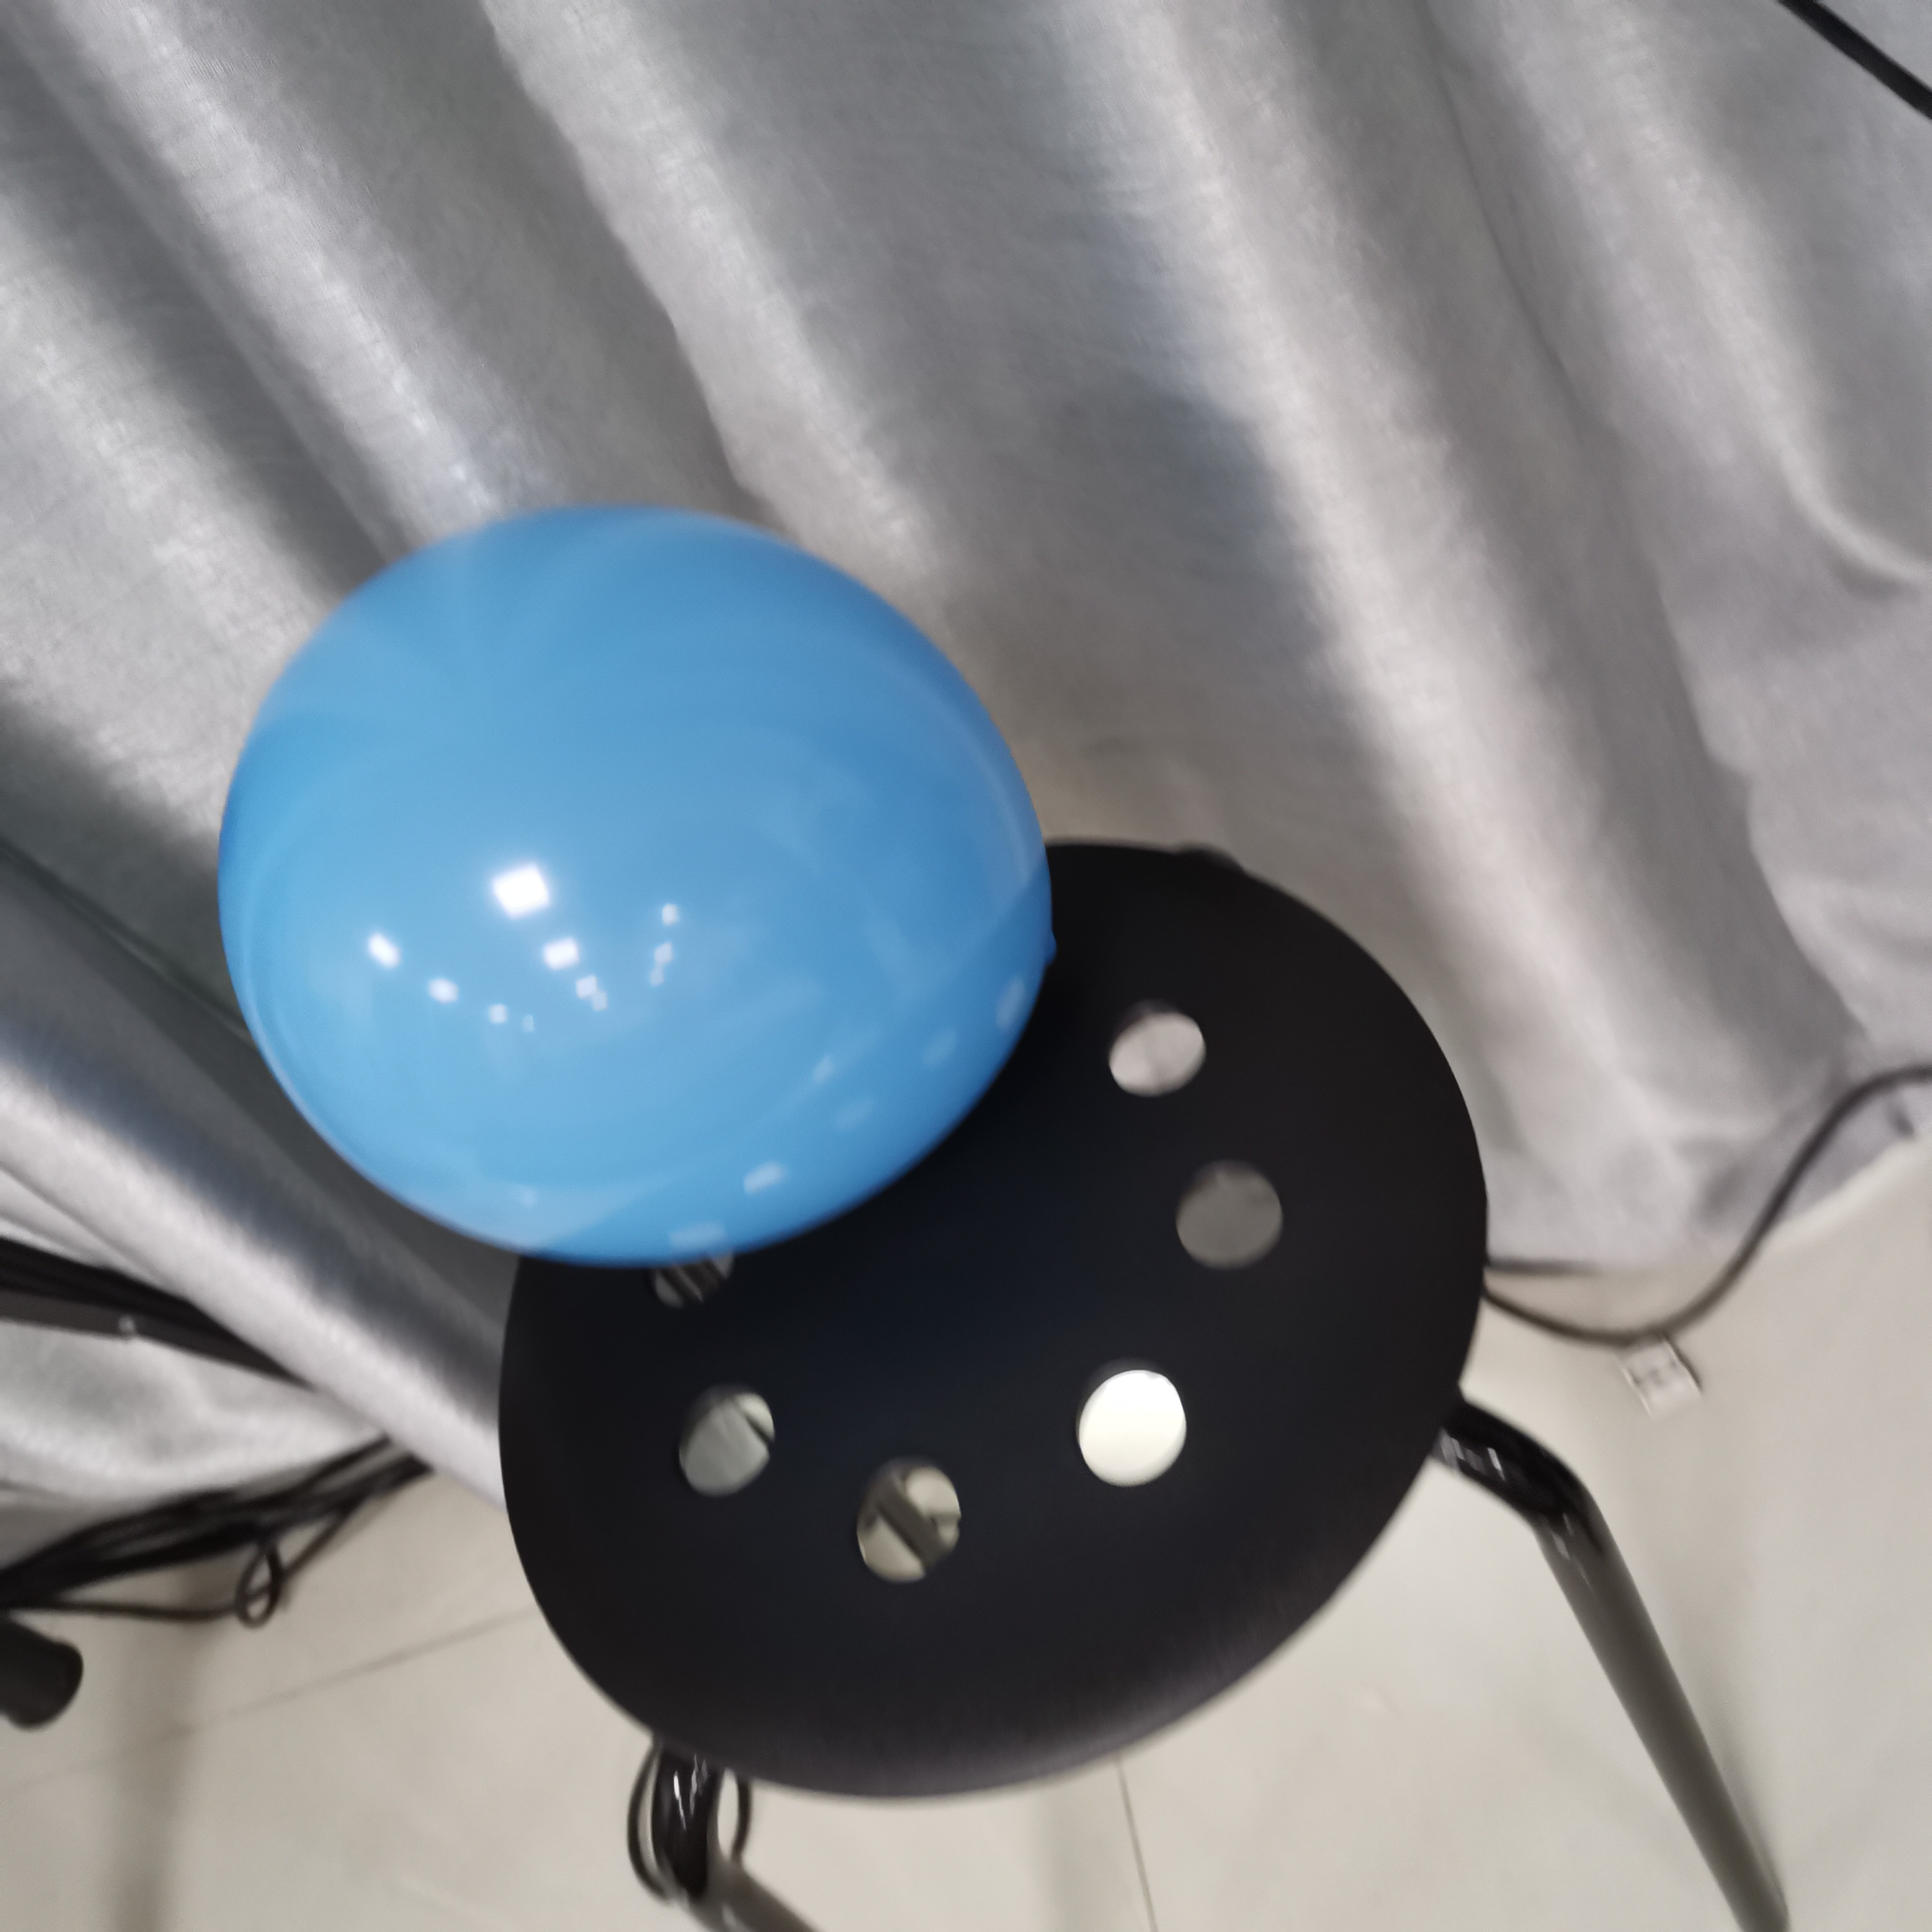balloon: (209, 502, 1058, 1260)
